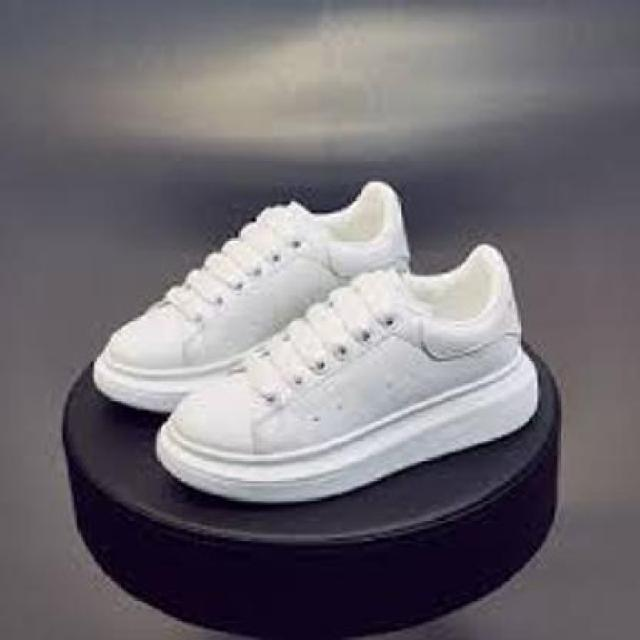not trash: (92, 178, 540, 500)
